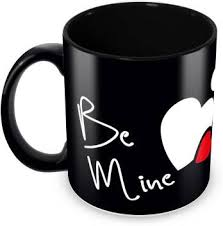cup: (1, 1, 223, 220)
